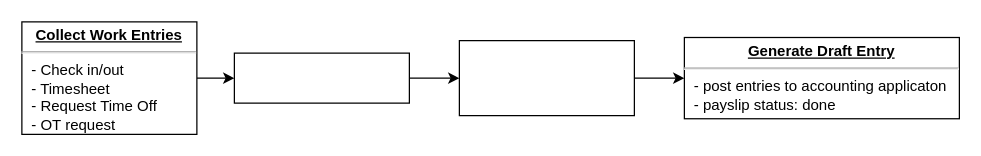
Some shapes in this 981 by 156 pixel diagram are drawn without their labels. The shapes that lost their labels are listed below. From the top down, each one's centre as x and y in pixels, then its label:
At [321,77]: "Resolve Conflicts".
At [546,77]: "Create Payslip - payslip status: waiting".
